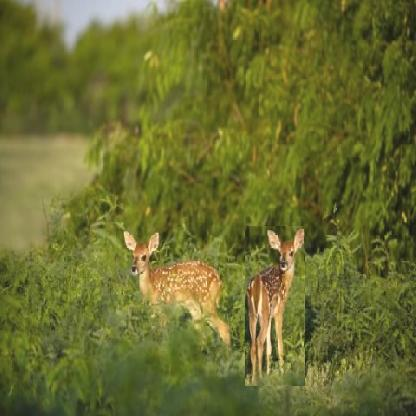Deer: (122, 229, 232, 367), (245, 226, 305, 386)
